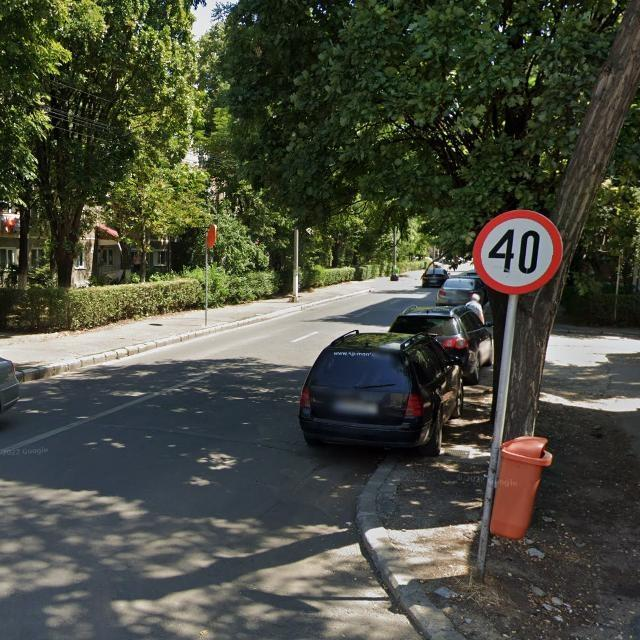forb_speed_over_40: (472, 209, 564, 296)
